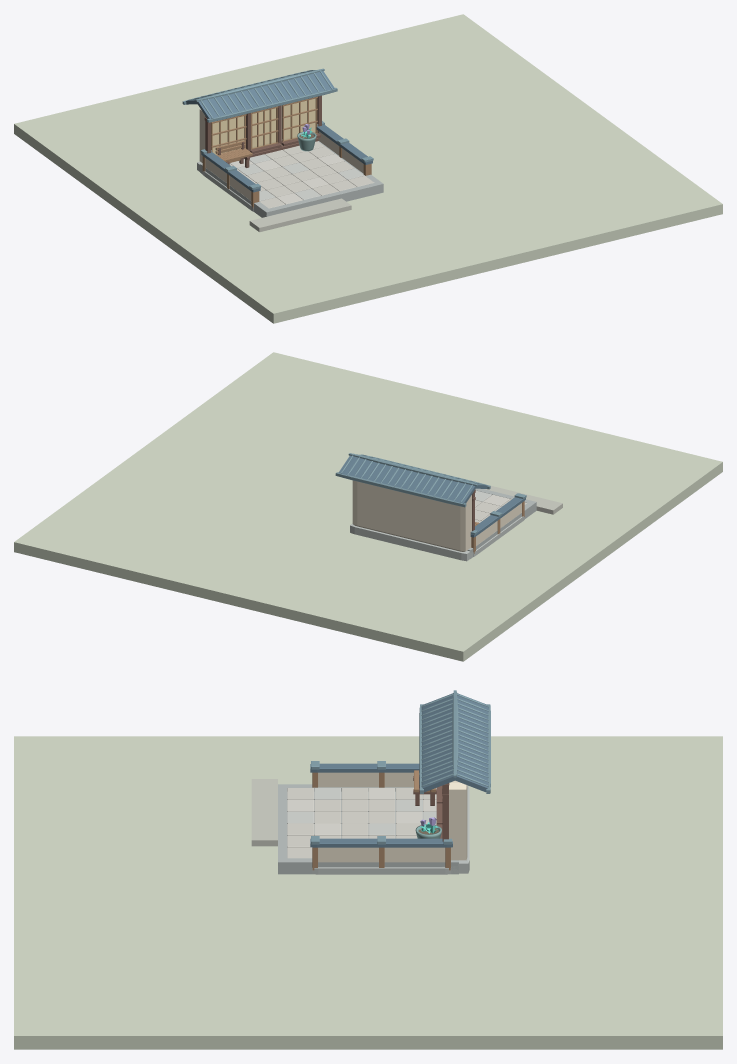
File: gggame_courtyard_paving_soft_v3_01.glb
The picture shows the model from 3 angles, top to bottom: view 1: azimuth 30°, elevation 25°; view 2: azimuth 150°, elevation 25°; view 3: azimuth 270°, elevation 25°; orthographic projection. The views are drawn at different scales.
Parts seen in each view (by area): view 1: ground, home-0-decor, home-0-floor, walkway-row-0-0; view 2: ground, home-0-decor, home-0-floor, walkway-row-0-0; view 3: ground, home-0-decor, home-0-floor, walkway-row-0-0, home-0-entry-step.
Boxes of the visible parts, x1,y1,x2,y2 form: ground: [14, 14, 722, 323]; home-0-decor: [182, 68, 373, 211]; home-0-floor: [200, 141, 383, 217]; walkway-row-0-0: [249, 206, 317, 232]; ground: [14, 352, 722, 661]; home-0-decor: [335, 453, 526, 561]; home-0-floor: [467, 488, 536, 558]; walkway-row-0-0: [499, 489, 562, 514]; ground: [14, 736, 722, 1049]; home-0-decor: [310, 690, 490, 874]; home-0-floor: [278, 784, 458, 874]; walkway-row-0-0: [251, 779, 277, 817]; home-0-entry-step: [251, 818, 277, 846].
Bounding box in the file's own units: 18.8 × 3.43 × 18.8.
